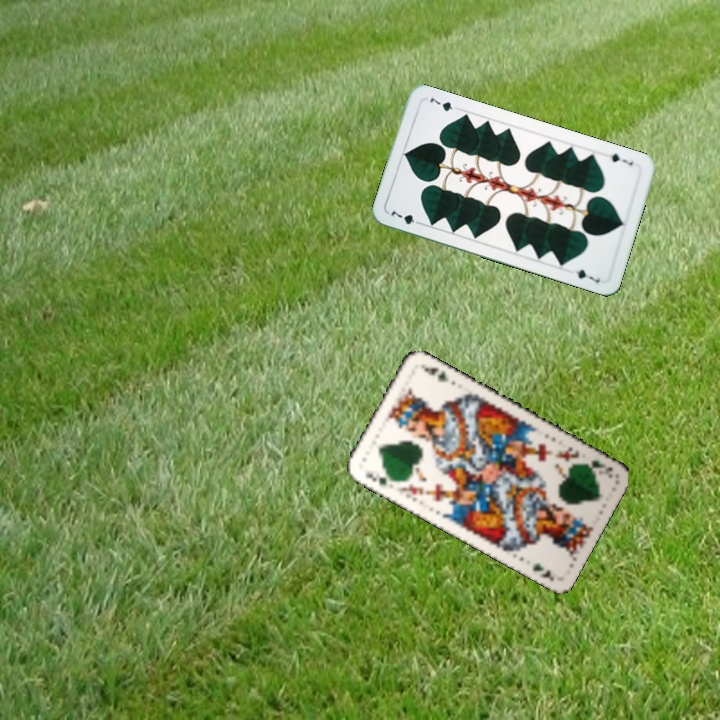G7: (387, 207, 425, 228), (607, 149, 636, 168)
GK: (579, 455, 616, 480), (361, 469, 397, 487)
